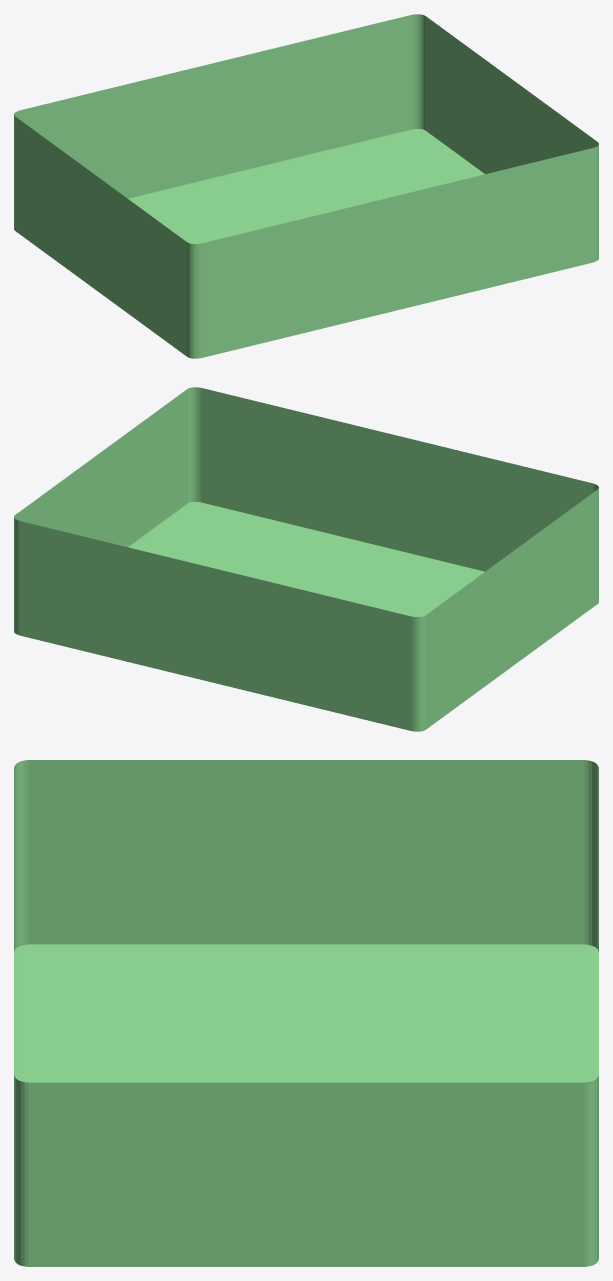
The model's file is DownStair.glb.
3 renders of one model, top to bottom at view 1: azimuth 30°, elevation 25°; view 2: azimuth 150°, elevation 25°; view 3: azimuth 270°, elevation 25°, orthographic. The views are drawn at different scales.
Parts seen in each view (by area): view 1: Cube.003; view 2: Cube.003; view 3: Cube.003.
Part boxes in pixels (x1,y1,x2,y2): Cube.003: (14,14,598,358); Cube.003: (14,387,598,731); Cube.003: (14,760,598,1266).
Size of the model in its own units: 7.5 by 2 by 5.75.
